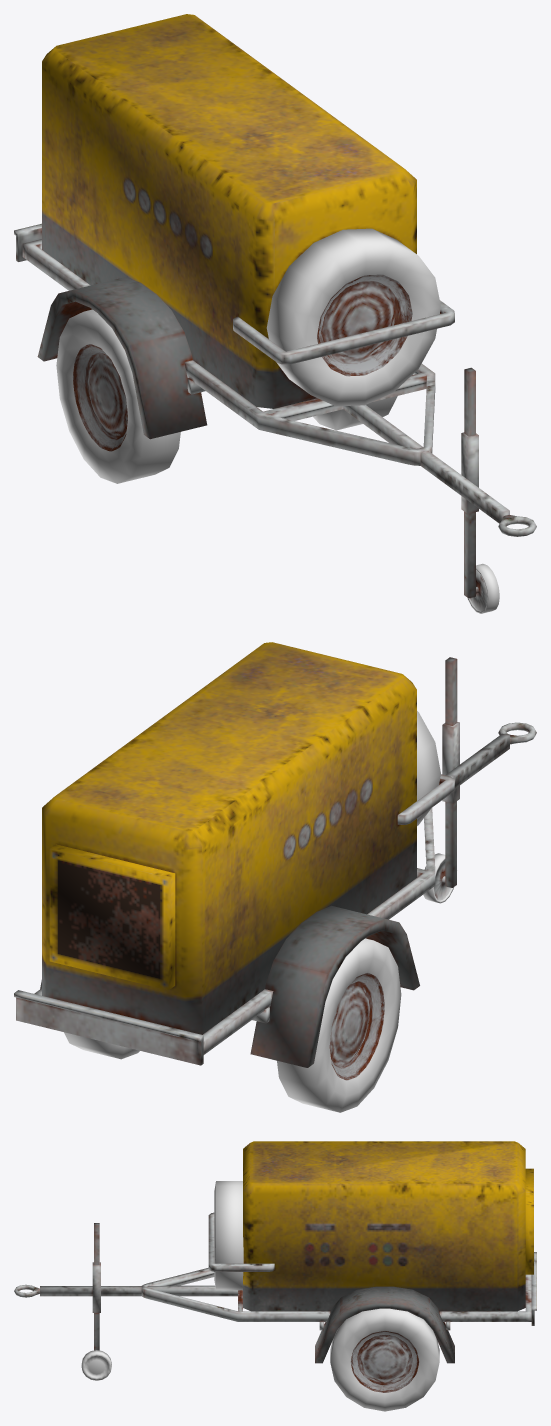
Rendered from trolly.fbx.
3 views of the same model, one above another, from view 1: azimuth 30°, elevation 25°; view 2: azimuth 150°, elevation 25°; view 3: azimuth 270°, elevation 25° (orthographic). The views are drawn at different scales.
Parts seen in each view (by area): view 1: trolly; view 2: trolly; view 3: trolly.
Boxes of the visible parts, x1,y1,x2,y2 form: trolly: [14, 14, 536, 613]; trolly: [14, 642, 536, 1112]; trolly: [14, 1141, 536, 1411].
Size of the model in its own units: 846 by 1011 by 2283.
Materials: 2 (1 with a texture image).
